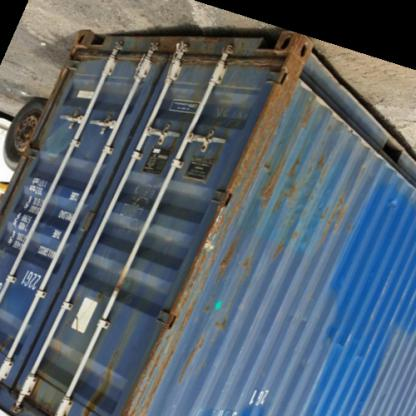Damage: (128, 297, 222, 415), (240, 54, 300, 226), (303, 156, 376, 262), (190, 178, 238, 328), (235, 235, 305, 294)
